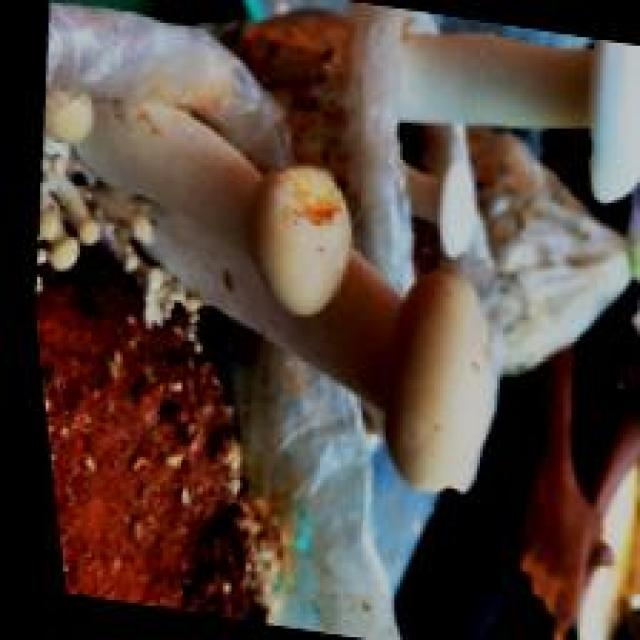field-mushroom: (248, 160, 352, 317)
